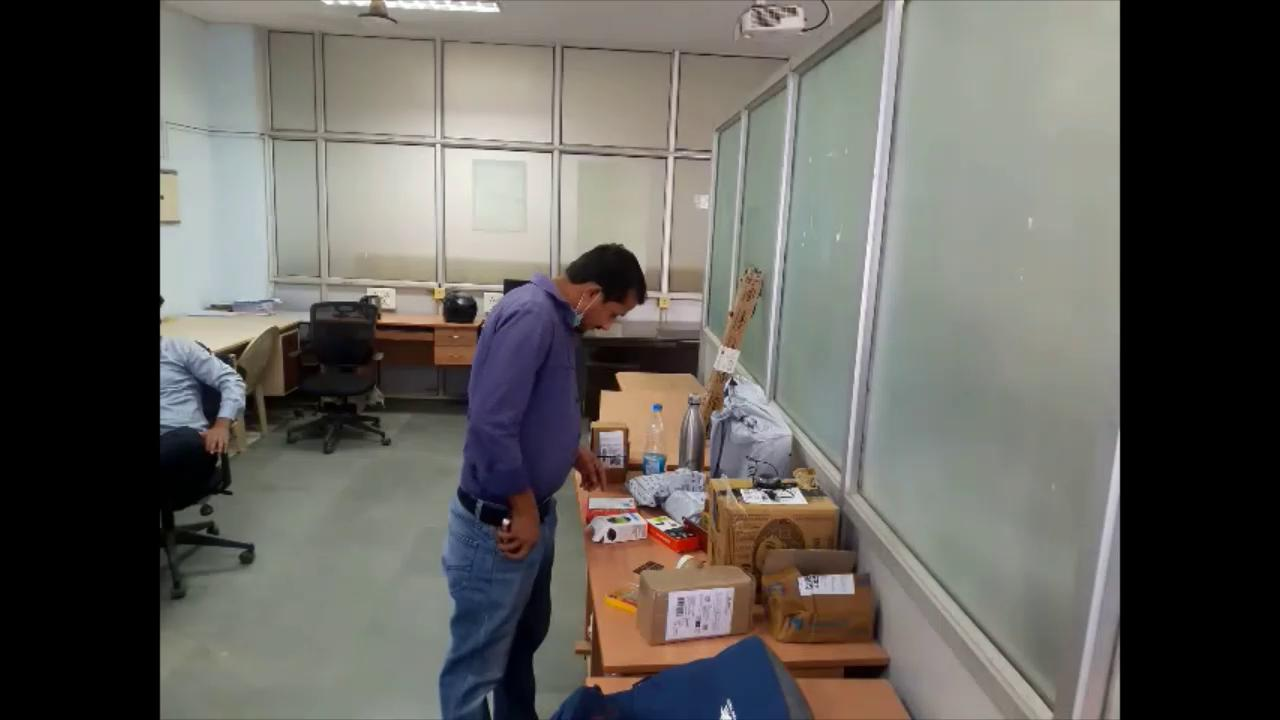shoplifting: (425, 222, 643, 720)
